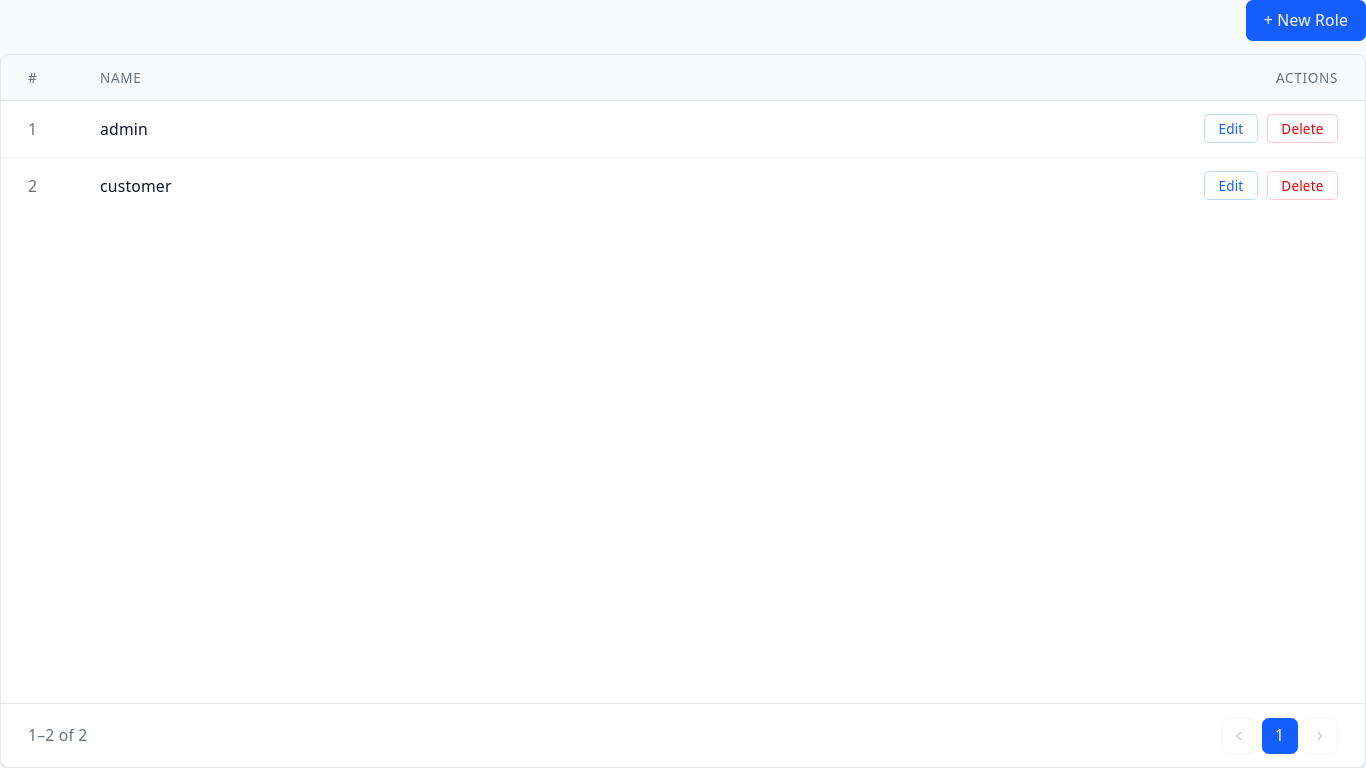
RoleList › closes modal when Cancel is clicked inside the form
# Open create modal
Click the button "+ New Role".
click(1306, 20)  # box [1246, 0, 1365, 40]
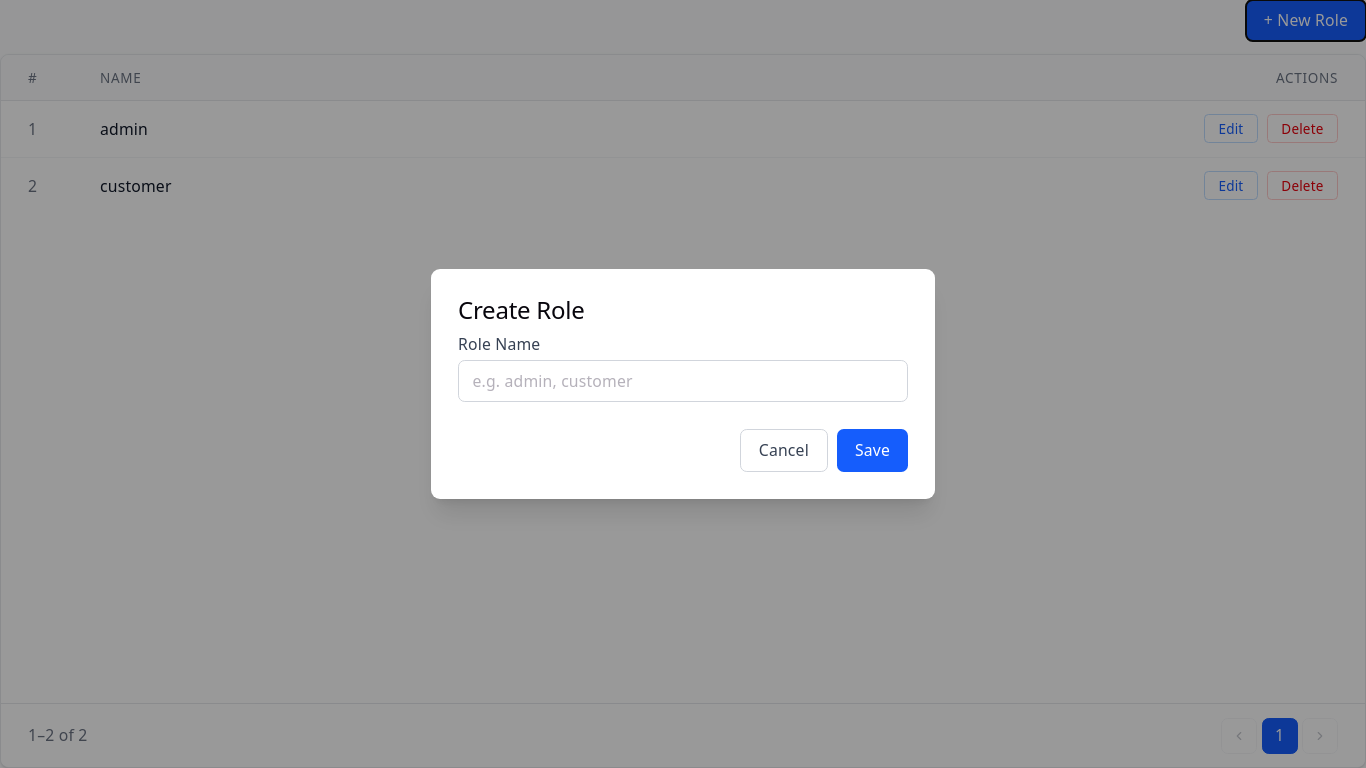
expect the heading "Create Role" is shown: met, box [458, 293, 585, 326]
Click the button "Cancel".
click(784, 450)  # box [740, 429, 828, 472]
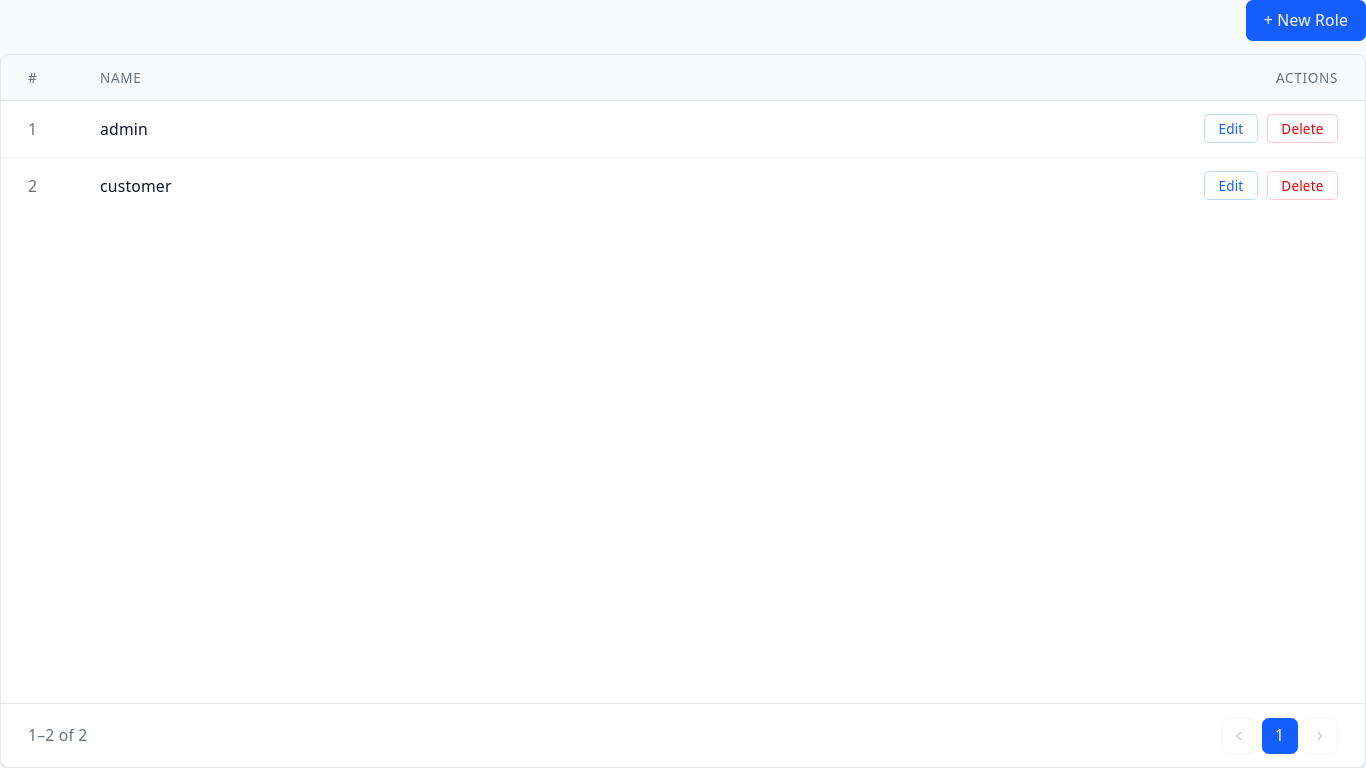
expect the heading "Create Role" is gone: met
